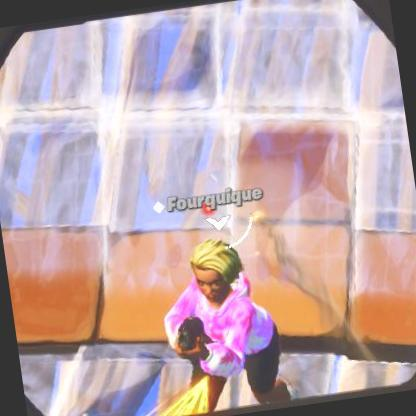person: (154, 232, 287, 416)
